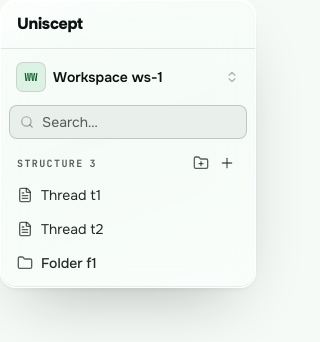
Sidebar › GIVEN a structure the member may manage with two root threads and a folder › WHEN a search query is typed › THEN only the matching thread stays and the button that clears the query is named
Type "t1" into the field with placeholder "Search…" at {"x": 128, "y": 122}, box [10,106,246,138]
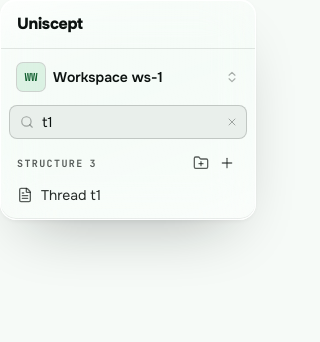
Check: the text "Thread t1" is shown, box [41,185,101,205]
Check: the list item "Thread t2" is gone
Check: the button named "Clear search" is shown, box [224,114,240,130]
